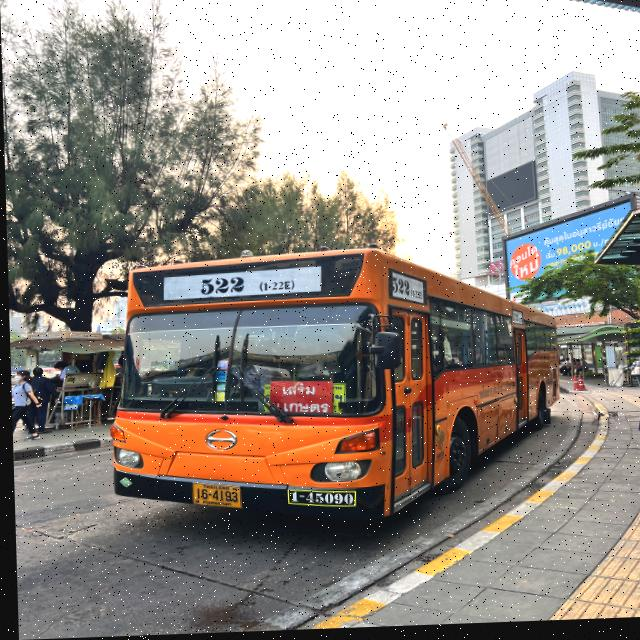BMTA-bus: (103, 247, 561, 534)
Bus-Line-Number: (196, 274, 299, 297)
Destination-Sign-Extra-Bus: (267, 382, 329, 418)
